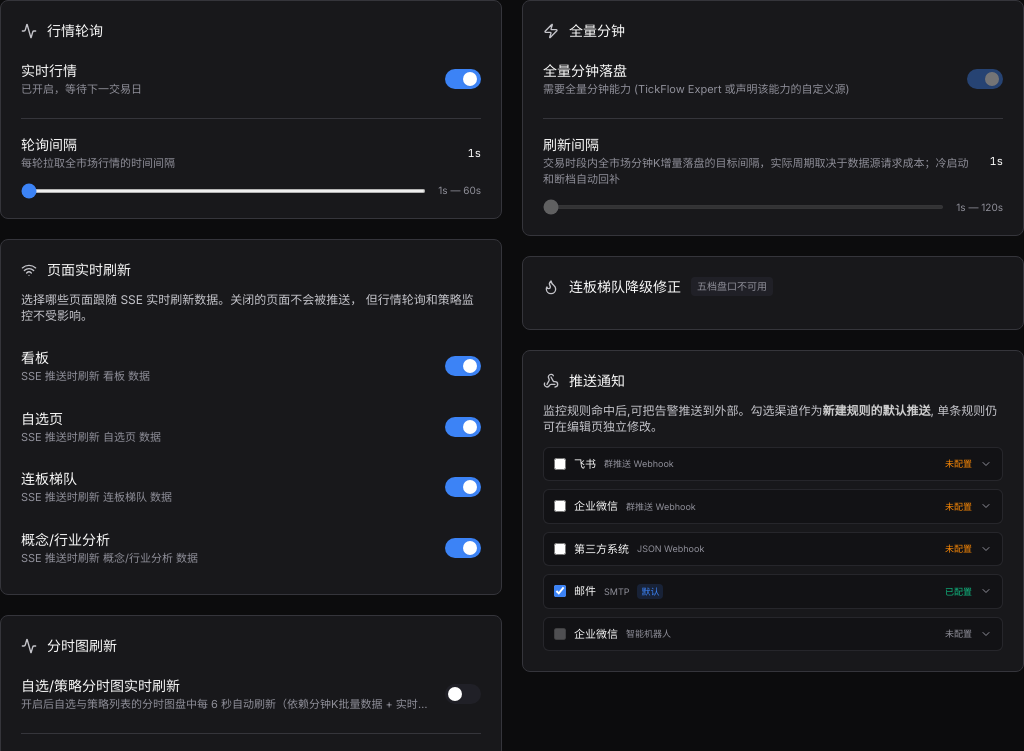
Test: hydrates registration mail defaults after preferences load without a plaintext password
Expected: the checkbox named "作为新建规则的默认推送渠道" next to "邮件" is checked, [554,585,566,597]
What coordinates should you click on to do the following:
click the element showing "邮件 SMTP 默认 已配置"
I would click on:
 (585, 591)
Its box is [554,584,992,599].
(page scrolled)
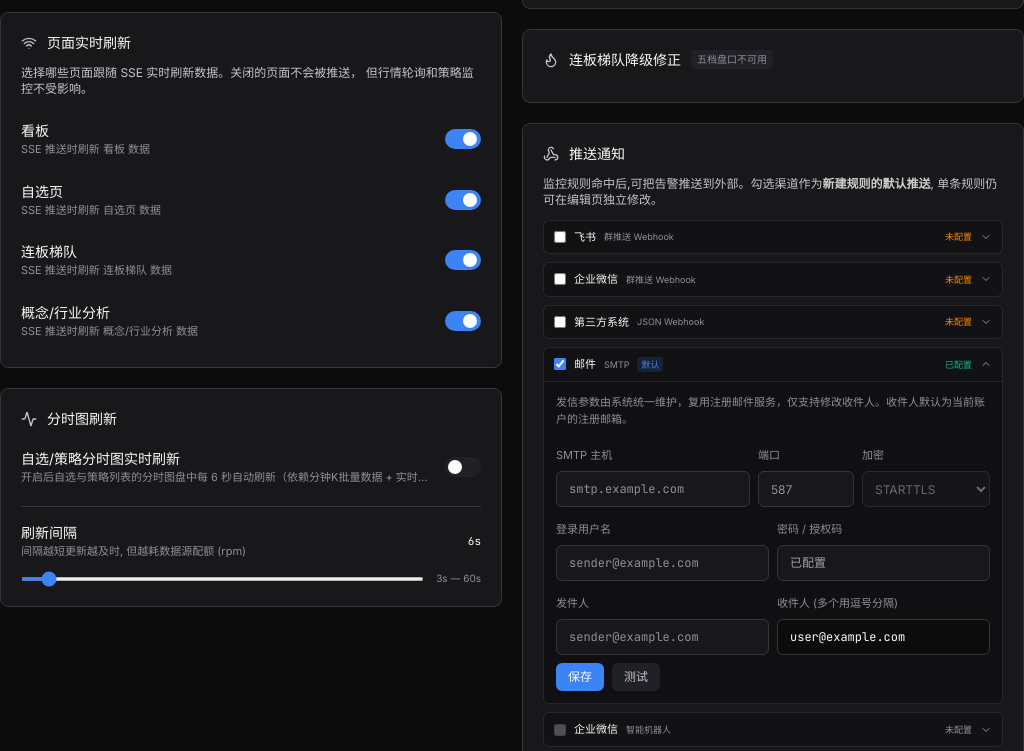
Result: the password field labelled "密码 / 授权码" is empty at [777,545,990,581]
Result: the password field labelled "密码 / 授权码" is disabled at [777,545,990,581]
Result: the dropdown labelled "加密" shows "STARTTLS" at [862,471,990,507]
